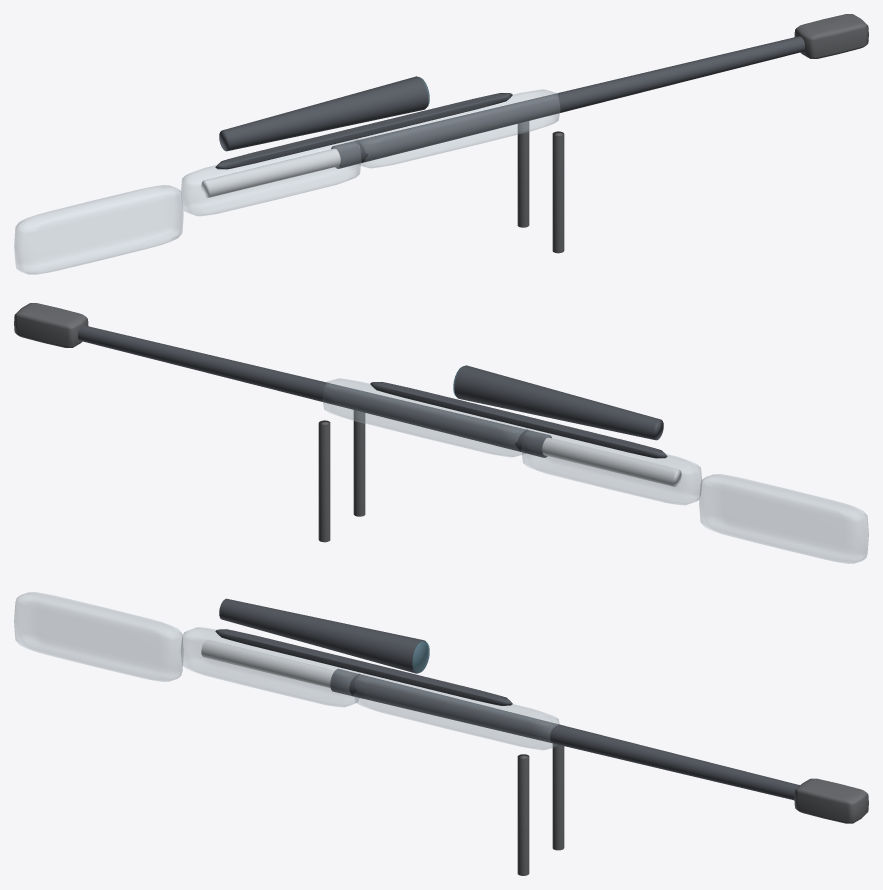
The model's file is horizons-lord-gls.glb.
3 views of the same model, one above another, from view 1: azimuth 30°, elevation 25°; view 2: azimuth 150°, elevation 25°; view 3: azimuth 330°, elevation 25° (orthographic).
Parts seen in each view (by area): view 1: precision_stock, barrel_1000mm, receiver_hl, chassis_forend, long_range_optic, top_rail, bolt_hl, muzzle_brake_hl, bipod_R, bipod_L; view 2: precision_stock, barrel_1000mm, receiver_hl, chassis_forend, long_range_optic, top_rail, bolt_hl, muzzle_brake_hl, bipod_L, bipod_R; view 3: precision_stock, barrel_1000mm, receiver_hl, chassis_forend, long_range_optic, top_rail, muzzle_brake_hl, bolt_hl, bipod_R, bipod_L.
Boxes of the visible parts, left/top/right/bottom form: precision_stock: left=14, top=185, right=183, bottom=274; barrel_1000mm: left=331, top=36, right=804, bottom=168; receiver_hl: left=181, top=139, right=361, bottom=216; chassis_forend: left=355, top=89, right=560, bottom=168; long_range_optic: left=219, top=76, right=428, bottom=151; top_rail: left=215, top=93, right=512, bottom=169; bolt_hl: left=201, top=148, right=340, bottom=197; muzzle_brake_hl: left=794, top=14, right=868, bottom=58; bipod_R: left=552, top=131, right=564, bottom=253; bipod_L: left=517, top=121, right=529, bottom=227; precision_stock: left=699, top=474, right=868, bottom=563; barrel_1000mm: left=78, top=325, right=551, bottom=457; receiver_hl: left=521, top=428, right=701, bottom=505; chassis_forend: left=322, top=378, right=527, bottom=457; long_range_optic: left=454, top=365, right=663, bottom=440; top_rail: left=370, top=382, right=667, bottom=458; bolt_hl: left=542, top=437, right=681, bottom=486; muzzle_brake_hl: left=14, top=303, right=88, bottom=347; bipod_L: left=318, top=420, right=330, bottom=542; bipod_R: left=353, top=410, right=365, bottom=516; precision_stock: left=14, top=592, right=183, bottom=681; barrel_1000mm: left=330, top=668, right=799, bottom=800; receiver_hl: left=180, top=627, right=360, bottom=707; chassis_forend: left=354, top=673, right=559, bottom=750; long_range_optic: left=219, top=598, right=427, bottom=673; top_rail: left=215, top=629, right=512, bottom=705; muzzle_brake_hl: left=794, top=778, right=868, bottom=823; bolt_hl: left=201, top=639, right=334, bottom=688; bipod_R: left=517, top=754, right=529, bottom=875; bipod_L: left=552, top=743, right=564, bottom=850.
Bounding box in the file's own units: 1.82 × 0.39 × 0.152.
